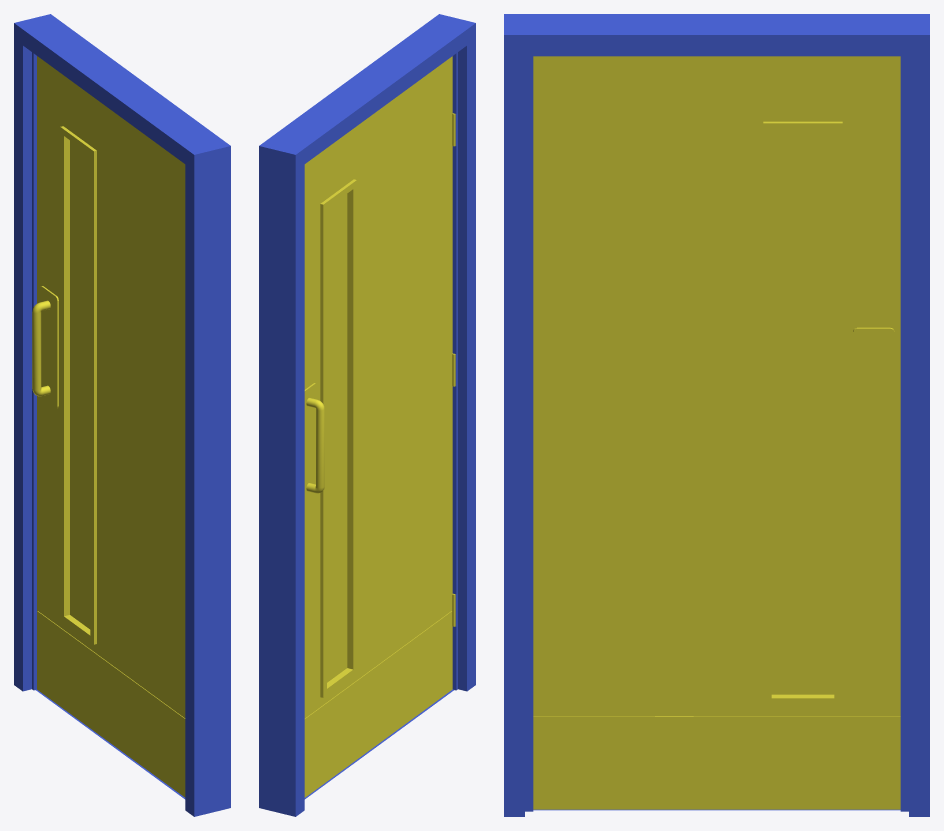
File: door1.fbx
The picture shows the model from 3 angles, left to right: view 1: azimuth 30°, elevation 25°; view 2: azimuth 150°, elevation 25°; view 3: azimuth 270°, elevation 25°; orthographic projection. The views are drawn at different scales.
Visible parts, largest first — view 1: SM Office Door.001, SM Office Door; view 2: SM Office Door.001, SM Office Door; view 3: SM Office Door.001, SM Office Door.
Boxes of the visible parts, x1=… form: SM Office Door.001: x1=32, y1=56, x2=185, y2=797; SM Office Door: x1=14, y1=14, x2=230, y2=816; SM Office Door.001: x1=304, y1=56, x2=455, y2=797; SM Office Door: x1=259, y1=14, x2=475, y2=816; SM Office Door.001: x1=533, y1=56, x2=900, y2=809; SM Office Door: x1=504, y1=14, x2=929, y2=816.
Bounding box in the file's own units: 13.55 × 207 × 102.
